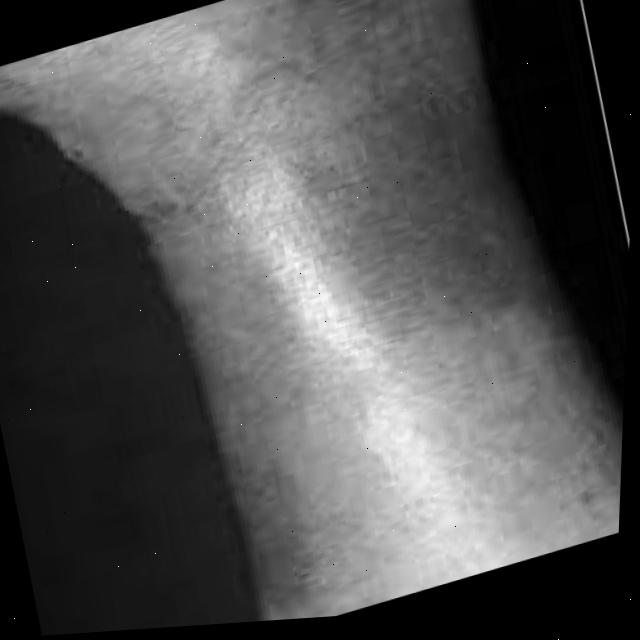Eczema: (113, 0, 576, 443)
